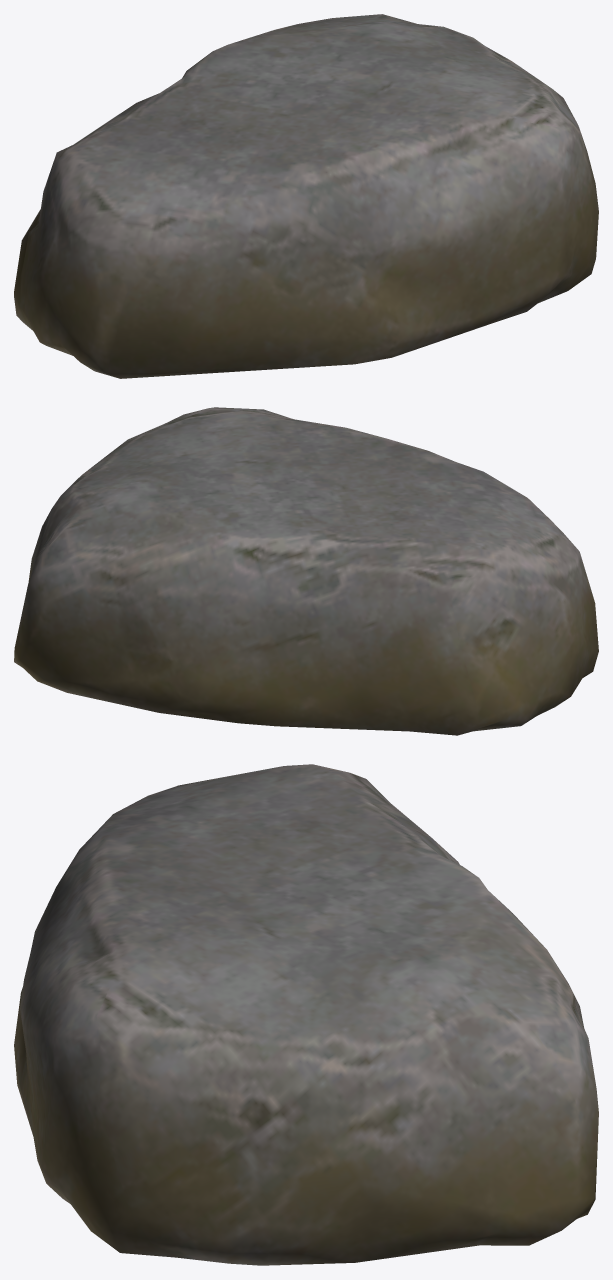
File: Rock1.fbx
3 views of the same model, one above another, from view 1: azimuth 30°, elevation 25°; view 2: azimuth 150°, elevation 25°; view 3: azimuth 270°, elevation 25° (orthographic). The views are drawn at different scales.
Visible parts, largest first — view 1: SM_cmn_mount_GardenRock_01a; view 2: SM_cmn_mount_GardenRock_01a; view 3: SM_cmn_mount_GardenRock_01a.
Part boxes in pixels (box(x1,y1,x2,y2)): SM_cmn_mount_GardenRock_01a: box(14, 14, 598, 378); SM_cmn_mount_GardenRock_01a: box(14, 407, 598, 735); SM_cmn_mount_GardenRock_01a: box(14, 764, 598, 1265).
Bounding box in the file's own units: 63.4 × 20.39 × 46.62.
